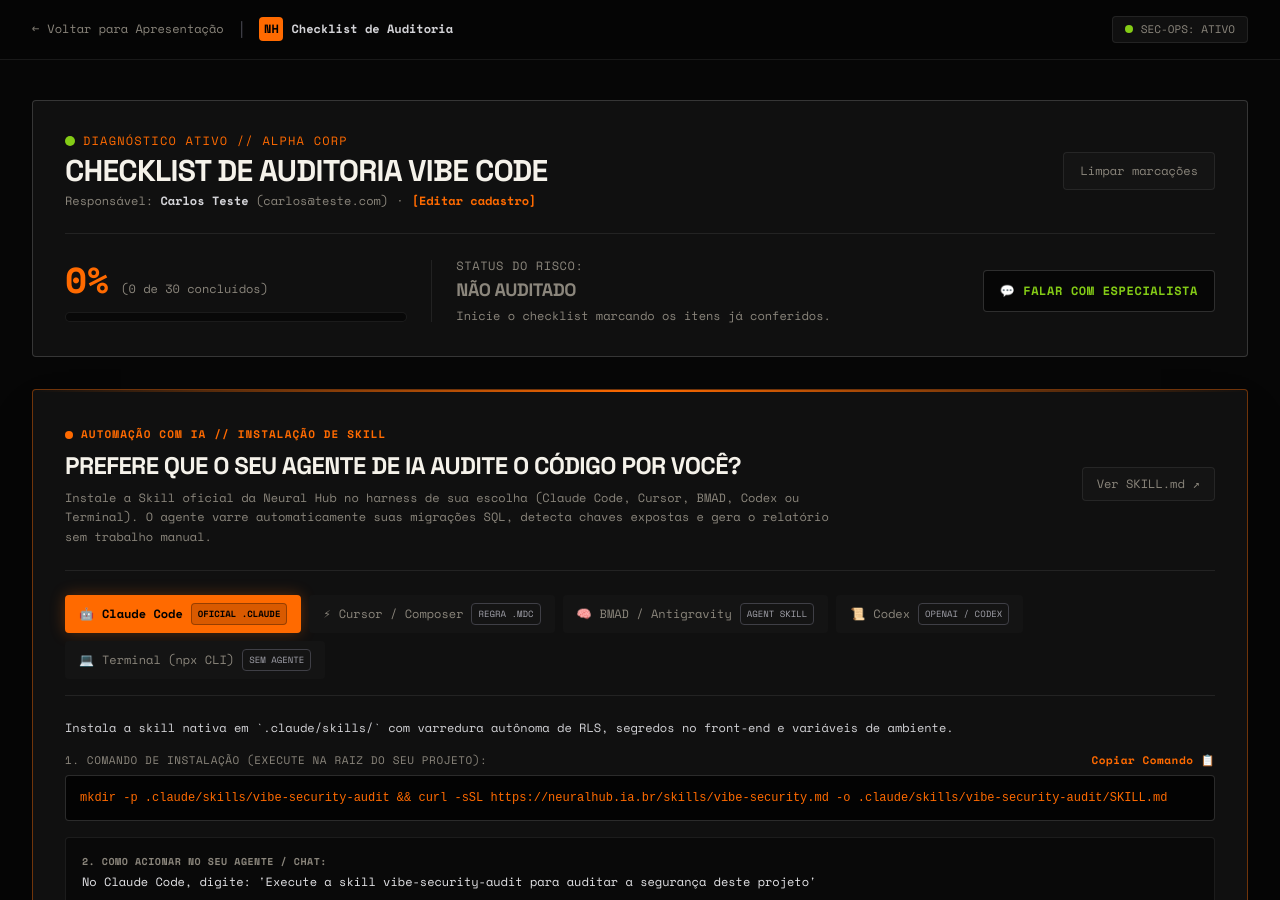
Test case: AuditoriaPage & Subpages › não exibe botão de download de PDF e disponibiliza a aba de instalação da Skill para Codex
// Clica na aba Codex e verifica o comando de instalação
Click the button "📜 Codex OpenAI / Codex": (930, 614) [836, 595, 1023, 633]
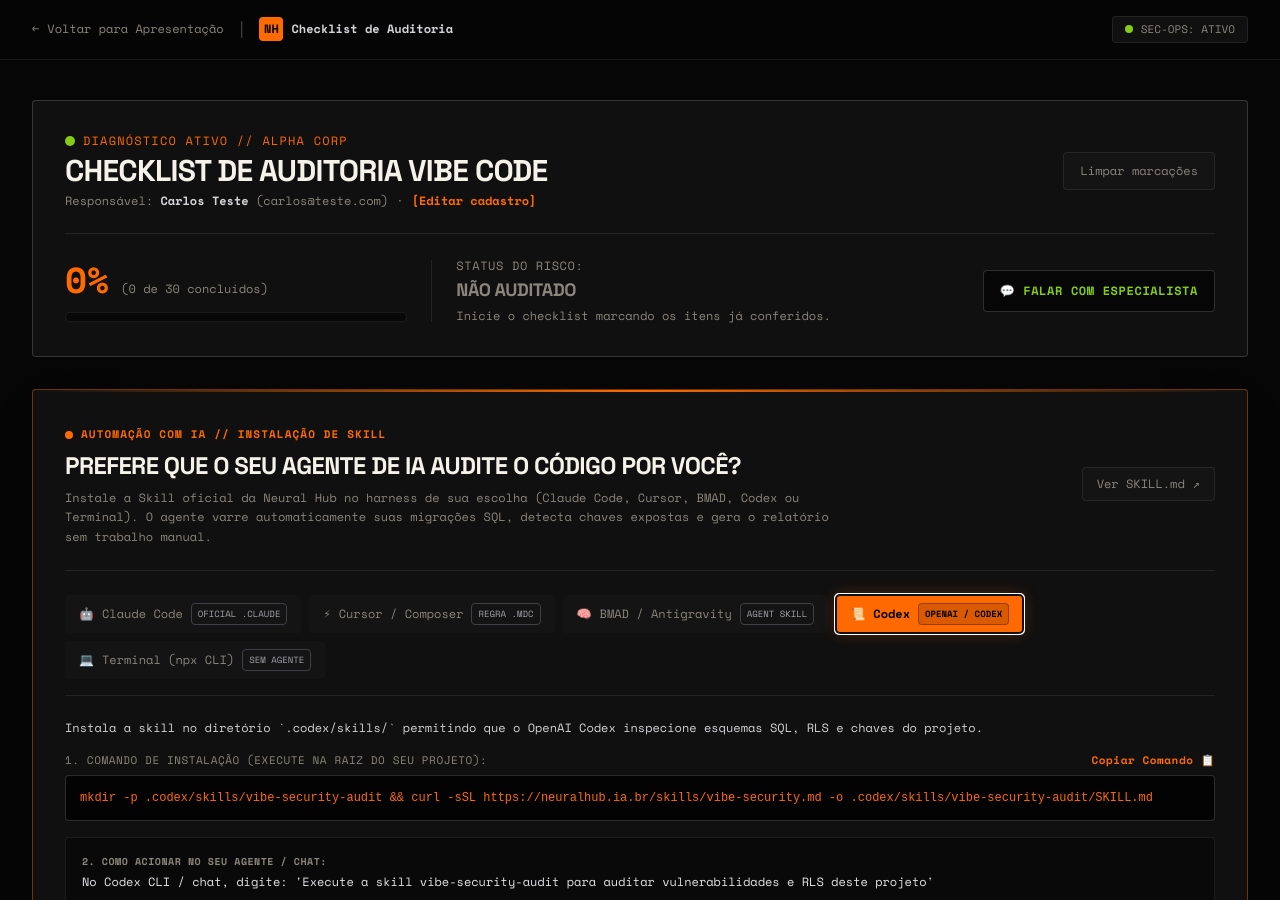
Expected: the text ".codex/skills/vibe-security-audit/SKILL.md" is shown, [80, 790, 1153, 804]
